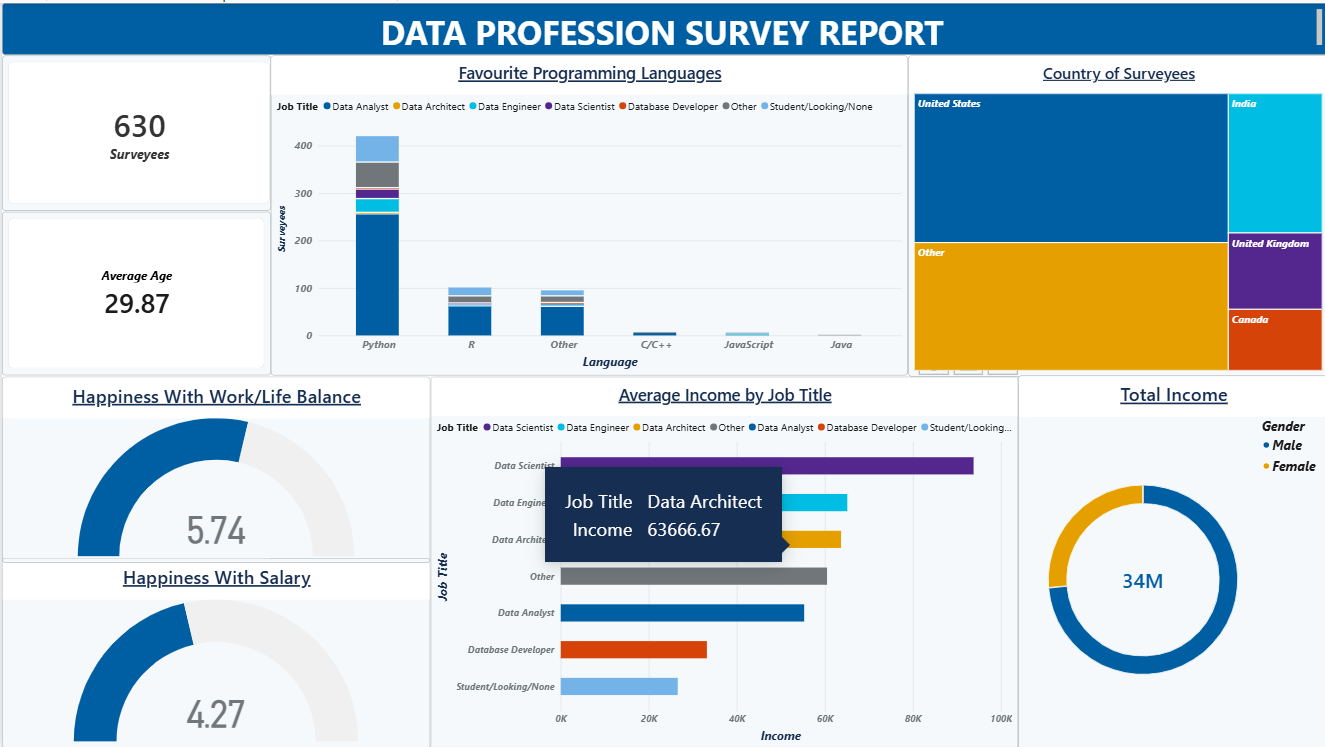

The page's visual inventory and layout, read from the dashboard file:
{"tool":"powerbi","page":{"name":"Page 1","canvas":[1920,1080],"ordinal":0},"visuals":[{"type":"textbox","box":[0,0,1920.4,75.6],"z":0},{"type":"cardVisual","fields":{"Data":["CountNonNull(Data Professional Survey.Unique ID)"]},"box":[0,75.6,389.5,224.8],"z":1000},{"type":"cardVisual","fields":{"Data":["Avg(Data Professional Survey.Q10 - Current Age)"]},"box":[0,302.3,389.5,236.4],"z":2000},{"type":"barChart","title":"Average Income by Job Title","fields":{"Category":["Data Professional Survey.Q1 - Which Title Best Fits your Current Role?.1"],"Series":["Data Professional Survey.Q1 - Which Title Best Fits your Current Role?.1"],"Y":["Avg(Data Professional Survey.Average Income)"]},"box":[620.1,540.7,850.7,538.7],"z":3000},{"type":"columnChart","title":"Favourite Programming Languages","fields":{"Category":["Data Professional Survey.Q5 - Favorite Programming Language.1"],"Series":["Data Professional Survey.Q1 - Which Title Best Fits your Current Role?.1"],"Y":["CountNonNull(Data Professional Survey.Unique ID)"]},"box":[389.5,75.6,922.4,463.1],"z":4000},{"type":"treemap","title":"Country of Surveyees","fields":{"Group":["Data Professional Survey.Q11 - Which Country do you live in?.1"],"Values":["CountNonNull(Data Professional Survey.Q11 - Which Country do you live in?.1)"]},"box":[1311.9,75.6,608.5,465.1],"z":5000},{"type":"gauge","title":"Happiness With Salary","fields":{"MaxValue":["Max(Data Professional Survey.Q6 - How Happy are you in your Current Position with the following? (Salary))"],"MinValue":["Min(Data Professional Survey.Q6 - How Happy are you in your Current Position with the following? (Salary))"],"Y":["Avg(Data Professional Survey.Q6 - How Happy are you in your Current Position with the following? (Salary))"]},"box":[0,804.2,620.1,275.2],"z":6000},{"type":"gauge","title":"Happiness With Work/Life Balance","fields":{"MaxValue":["Max(Data Professional Survey.Q6 - How Happy are you in your Current Position with the following? (Work/Life Balance))"],"MinValue":["Min(Data Professional Survey.Q6 - How Happy are you in your Current Position with the following? (Work/Life Balance))"],"Y":["Avg(Data Professional Survey.Q6 - How Happy are you in your Current Position with the following? (Work/Life Balance))"]},"box":[0,540.7,620.1,269.4],"z":7000},{"type":"donutChart","title":"Total Income","fields":{"Category":["Data Professional Survey.Q9 - Male/Female?"],"Y":["Sum(Data Professional Survey.Average Income)"]},"box":[1470.8,538.7,449.6,540.7],"z":8000}]}

Visuals, with their boxes in screenshot pixels (x1, y1, x2, y2), scaled from the page's 1920x1080 canvas onto the 1325x747 screenshot:
textbox: region(0, 0, 1324, 52)
cardVisual - CountNonNull(Data Professional Survey.Unique ID): region(0, 52, 269, 208)
cardVisual - Avg(Data Professional Survey.Q10 - Current Age): region(0, 209, 269, 373)
"Average Income by Job Title" barChart: region(428, 374, 1015, 746)
"Favourite Programming Languages" columnChart: region(269, 52, 905, 373)
"Country of Surveyees" treemap: region(905, 52, 1324, 374)
"Happiness With Salary" gauge: region(0, 556, 428, 746)
"Happiness With Work/Life Balance" gauge: region(0, 374, 428, 560)
"Total Income" donutChart: region(1015, 373, 1324, 746)
